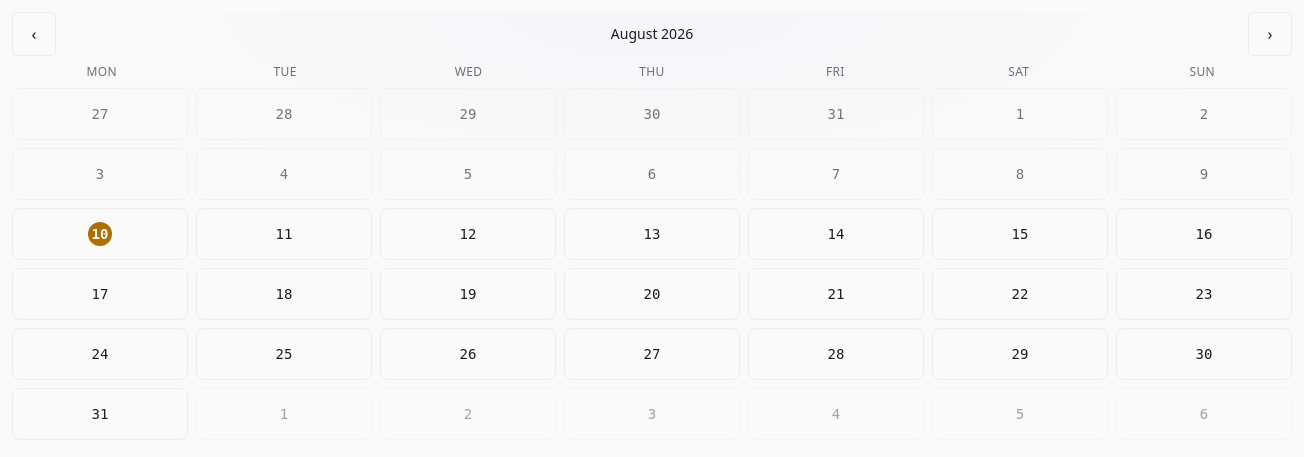
Test: TripsCalendar › navigates to the next and previous month via chevrons
Expected: the text "August 2026" is shown, [611,24,693,44]
Click the button with test id "calendar-next" at point(1270, 34), box [1248,12,1292,56]
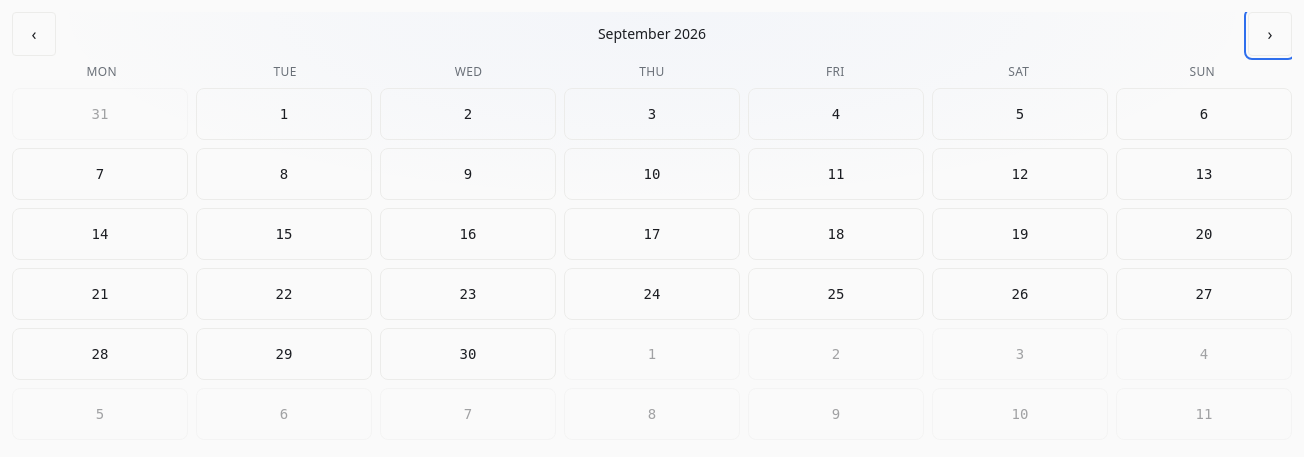
Now the text "September 2026" is shown, box [598,24,706,44]
Click the button with test id "calendar-prev" at point(34, 34), box [12,12,56,56]
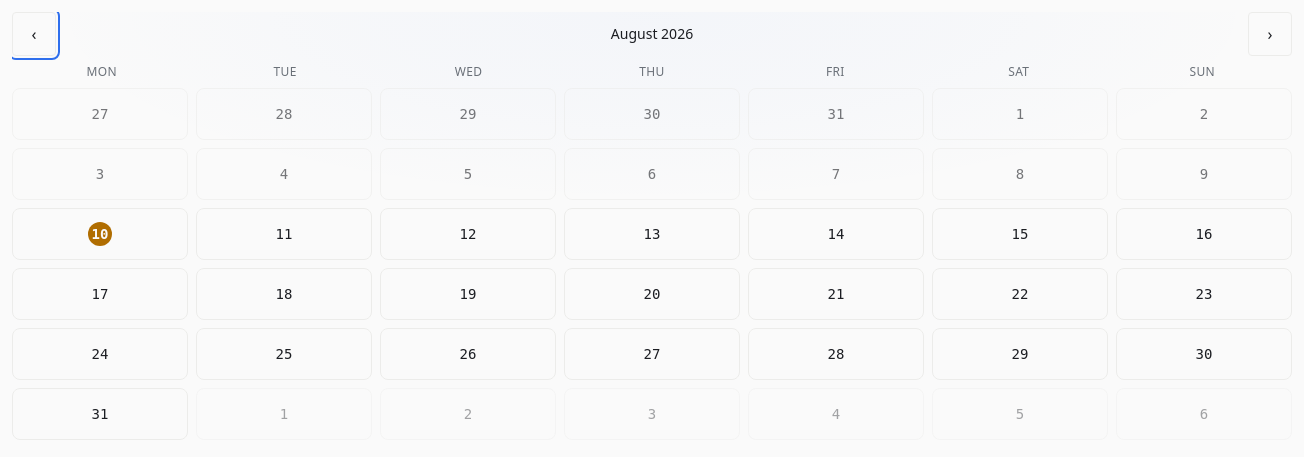
Click the button with test id "calendar-prev" at point(34, 34), box [12,12,56,56]
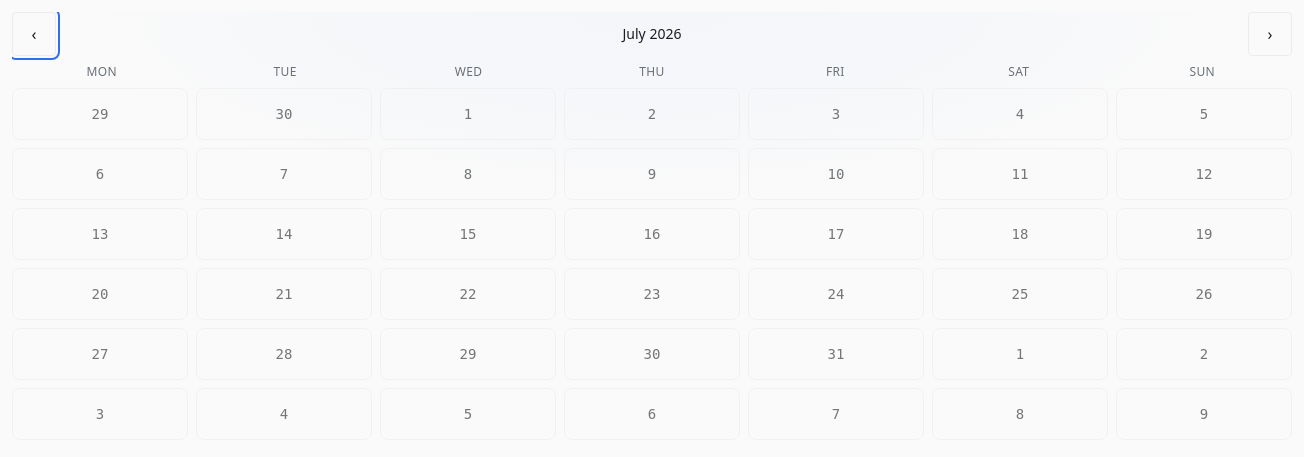
Now the text "July 2026" is shown, box [622,24,681,44]
